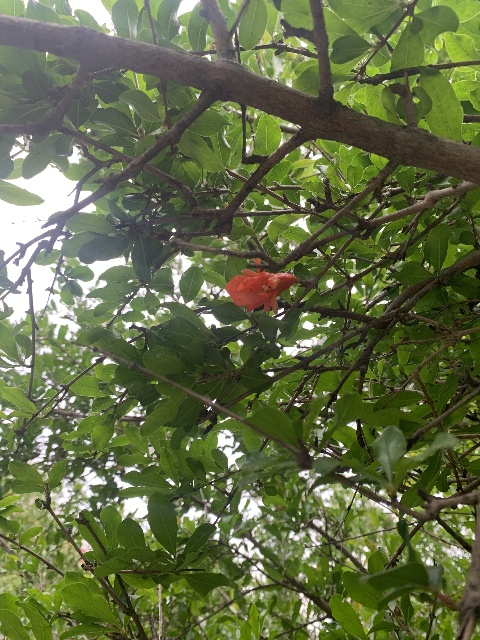flower: (225, 257, 297, 314)
